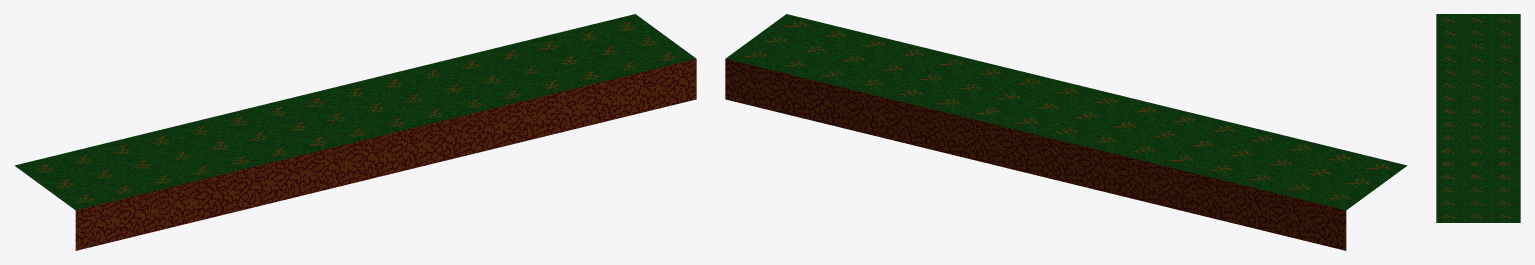
File: EndRoom5Fragil10Piso-653f946aacc0.glb
3 views of the same model, side by side, from view 1: azimuth 30°, elevation 25°; view 2: azimuth 150°, elevation 25°; view 3: azimuth 270°, elevation 25° (orthographic). The views are drawn at different scales.
Visible parts, largest first — view 1: Setor_5; view 2: Setor_5; view 3: Setor_5.
Part boxes in pixels (bbox=[...]): Setor_5: bbox=[14, 14, 696, 250]; Setor_5: bbox=[725, 14, 1407, 250]; Setor_5: bbox=[1436, 14, 1520, 222].
Size of the model in its own units: 16.64 by 1.04 by 2.84.
Materials: 1 (1 with a texture image).
